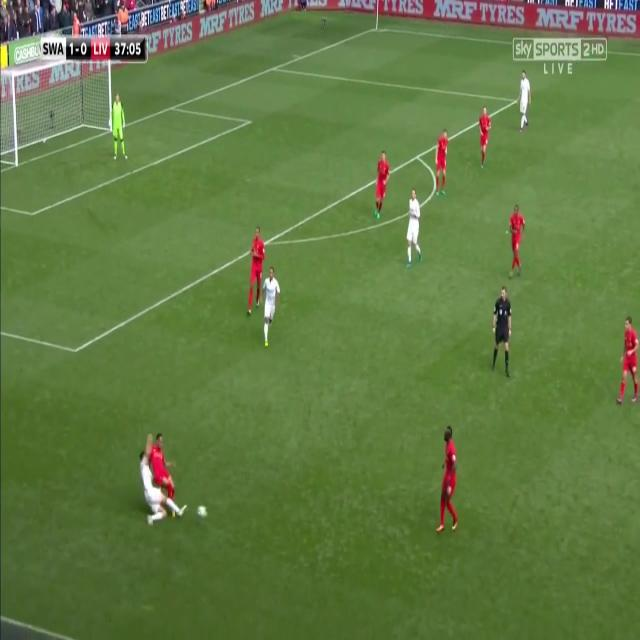Ball: (193, 501, 210, 524)
Goalkeeper: (107, 89, 130, 164)
Player: (432, 421, 462, 541), (139, 450, 186, 526), (612, 316, 640, 406), (245, 226, 267, 319), (260, 265, 282, 352), (148, 432, 178, 494), (507, 202, 528, 280), (404, 188, 424, 268), (372, 149, 391, 221), (433, 128, 451, 200), (516, 67, 534, 134), (478, 102, 493, 170)
Referee: (490, 284, 514, 381)
